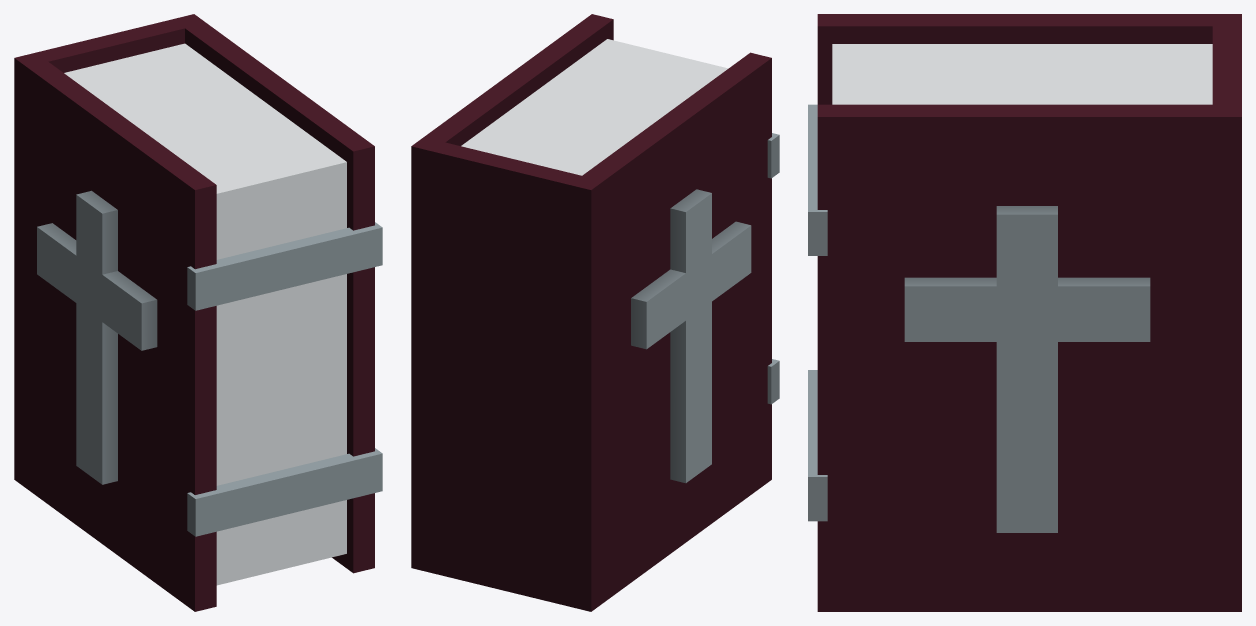
Rendered from mage_off_1.gltf.
3 views of the same model, side by side, from view 1: azimuth 30°, elevation 25°; view 2: azimuth 150°, elevation 25°; view 3: azimuth 270°, elevation 25° (orthographic). The views are drawn at different scales.
Visible parts, largest first — view 1: mage_off_1; view 2: mage_off_1; view 3: mage_off_1.
Part boxes in pixels (x1=…): mage_off_1: x1=14, y1=14, x2=382, y2=611; mage_off_1: x1=411, y1=14, x2=779, y2=611; mage_off_1: x1=808, y1=14, x2=1241, y2=611.
Bounding box in the file's own units: 0.2956 × 0.56 × 0.445.
1 material, 1 textured.
